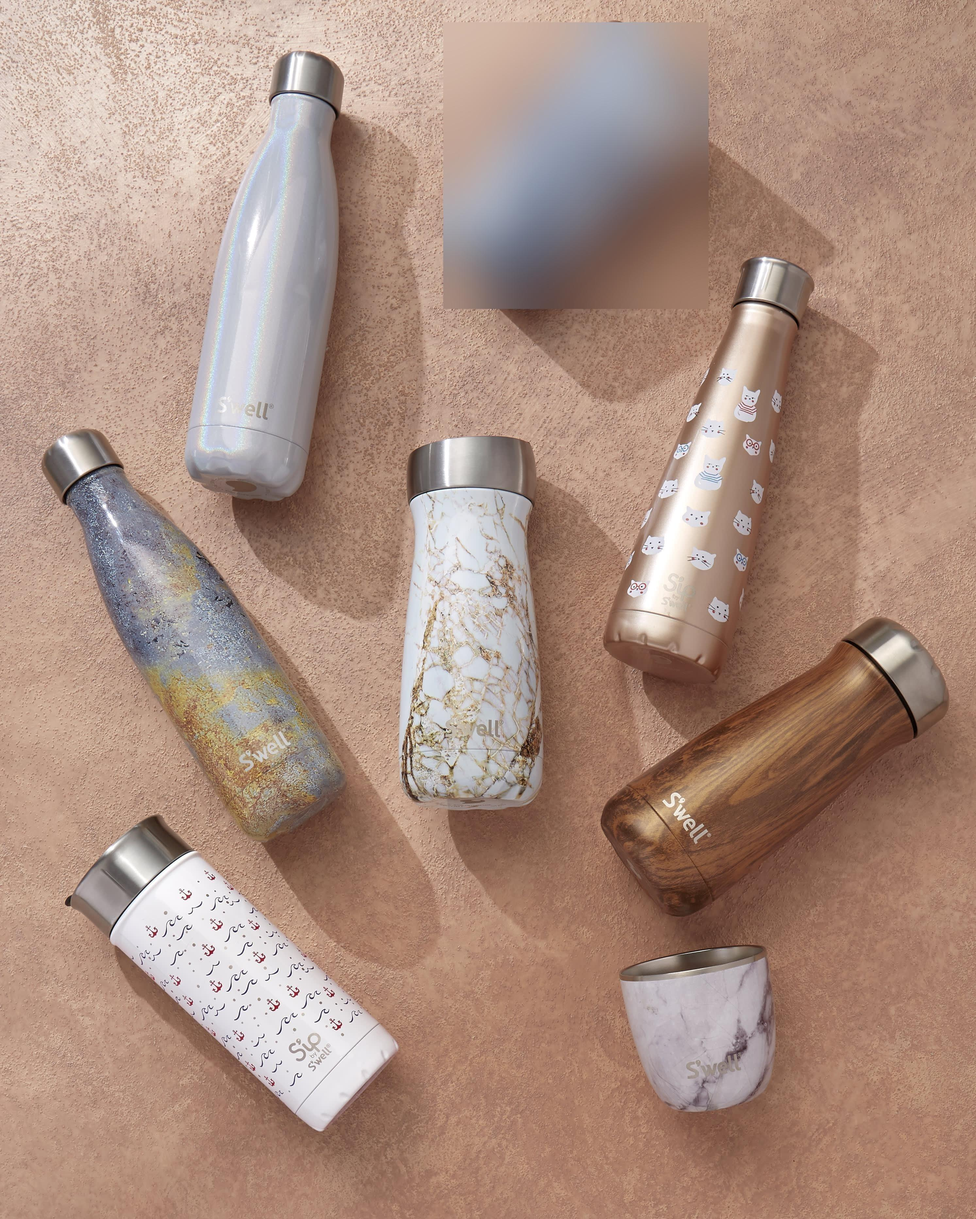gym bottle: (41, 428, 341, 838), (73, 814, 400, 1135), (600, 615, 948, 915), (601, 255, 814, 680), (181, 49, 348, 496), (393, 432, 547, 809)
